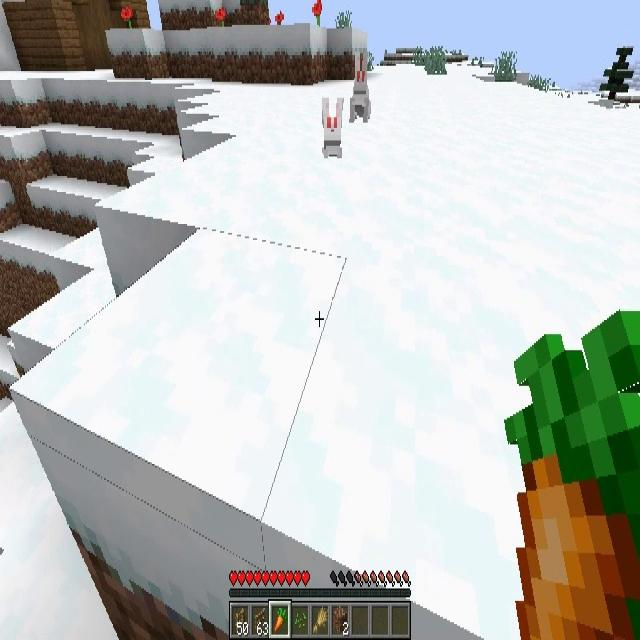rabbit: (351, 52, 371, 121), (322, 97, 343, 155)
